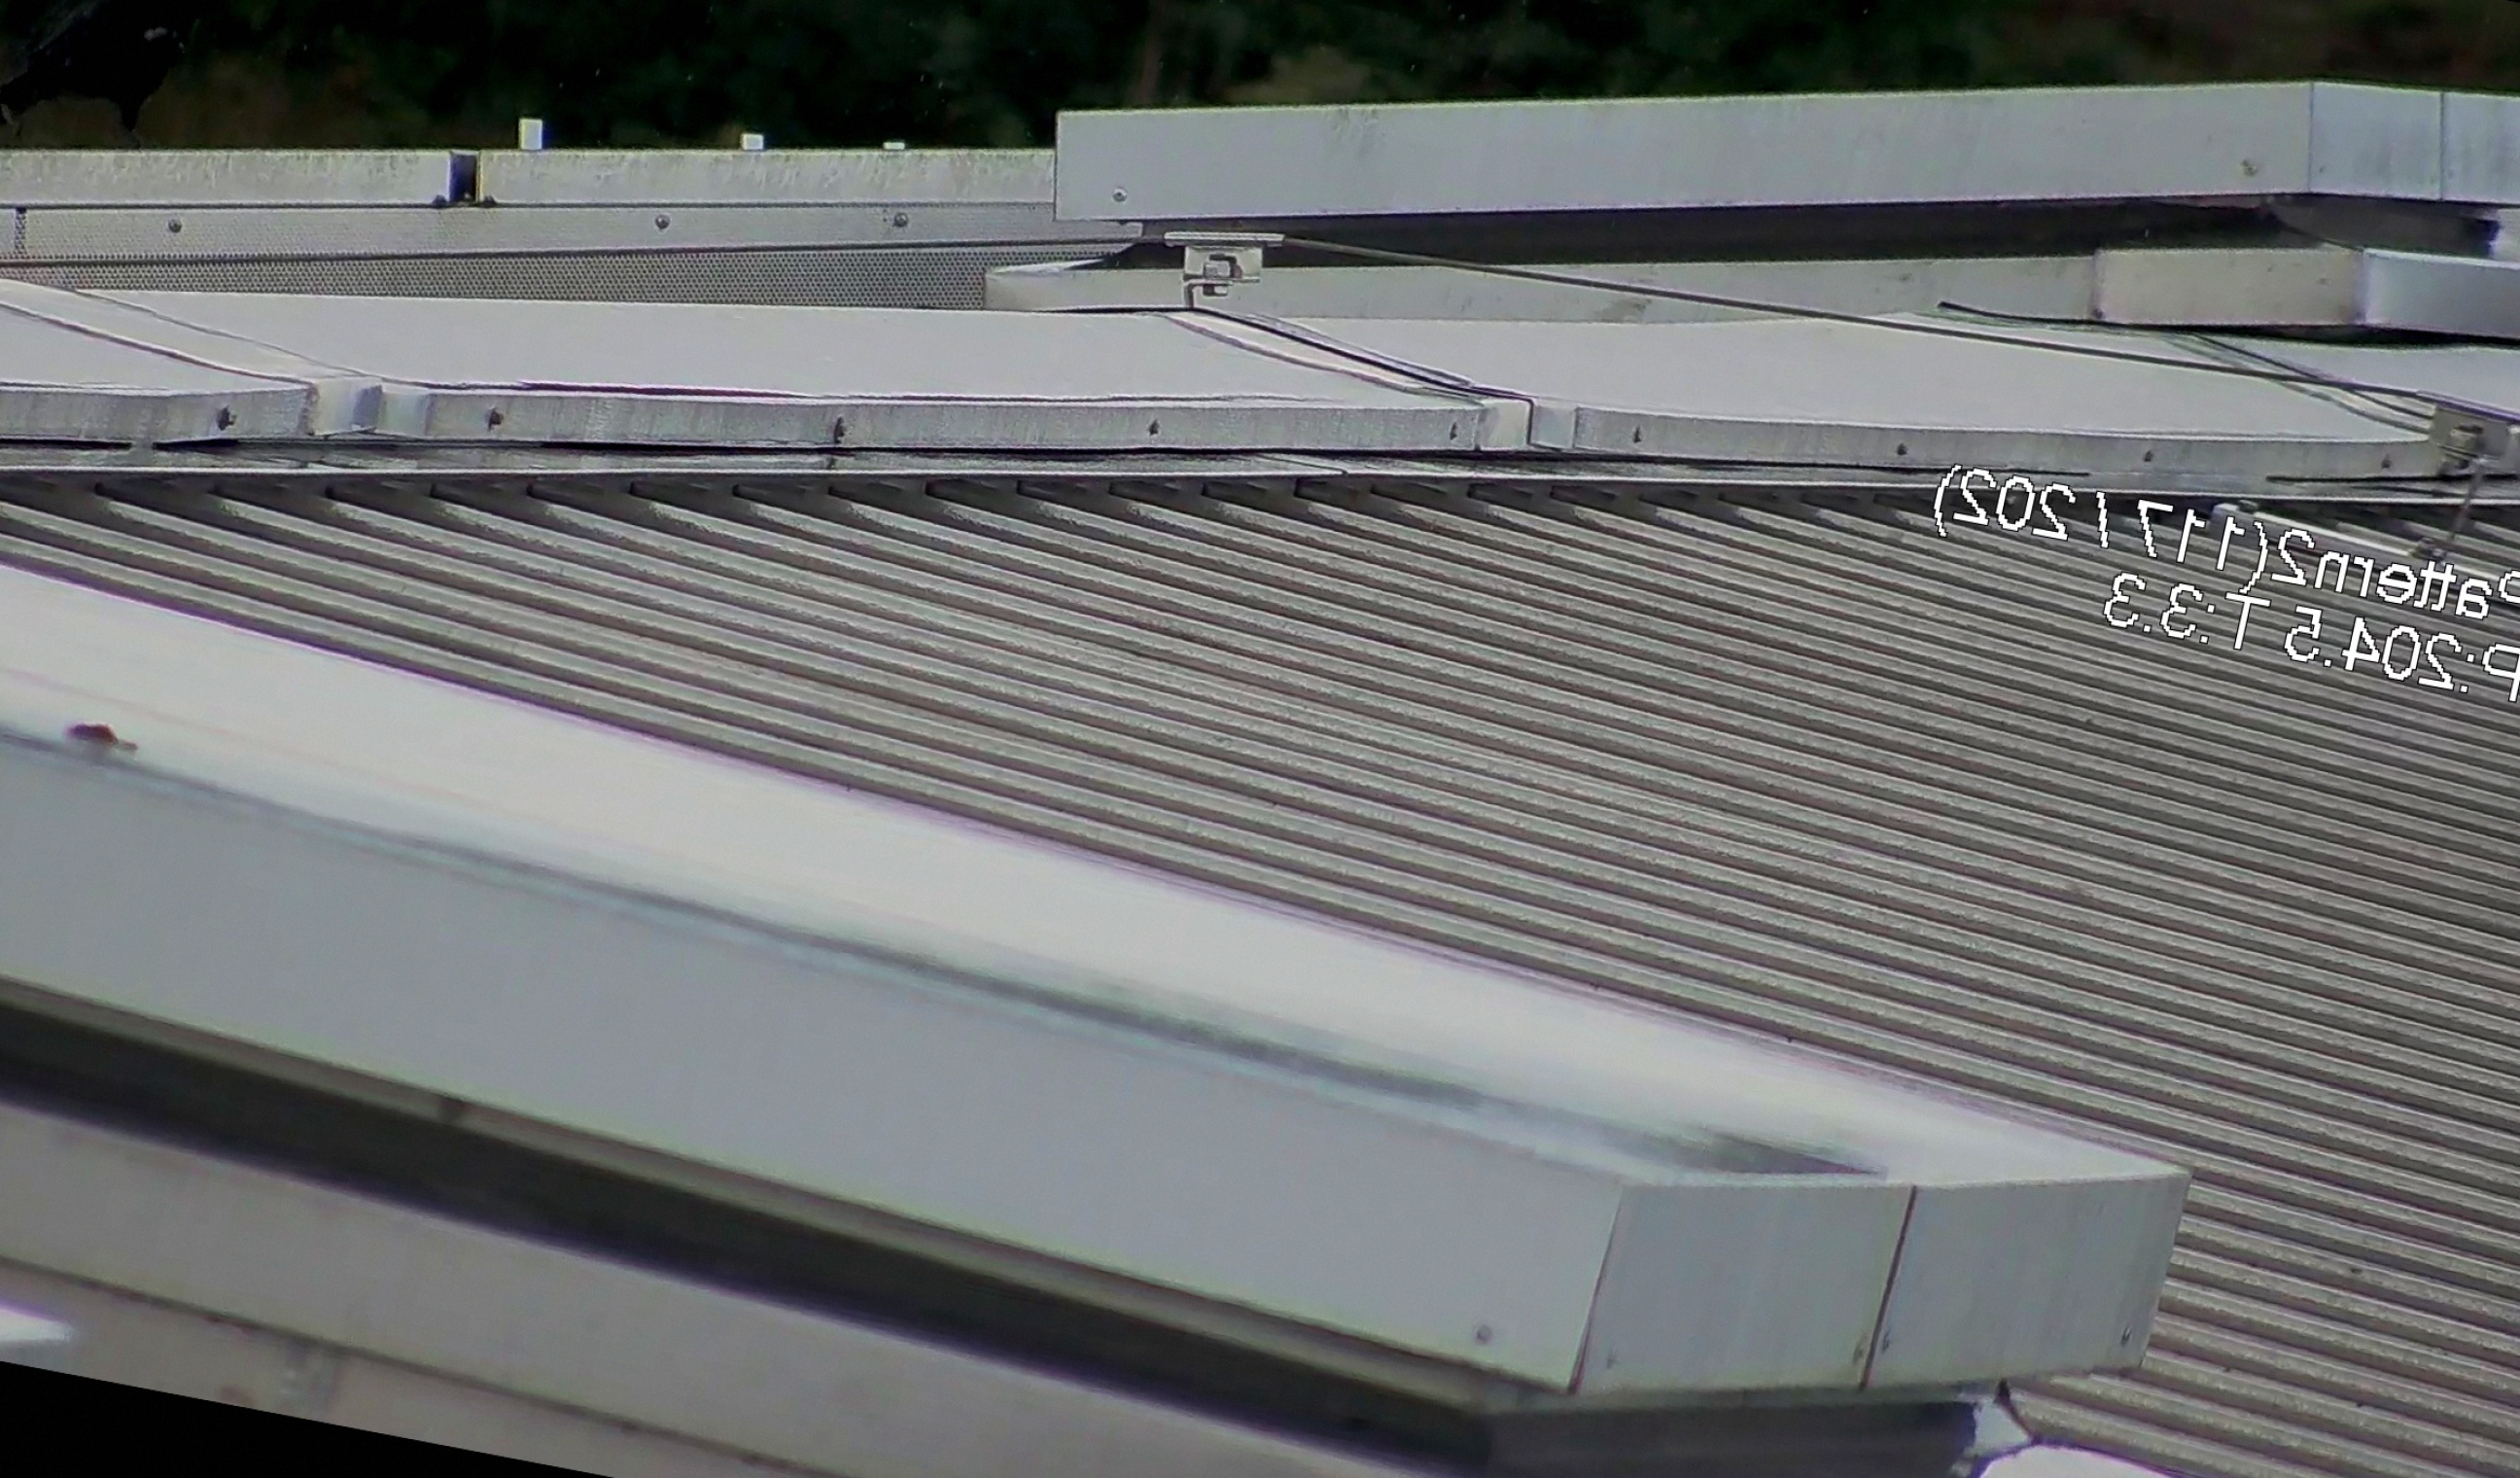Other: (0, 0, 246, 171)
